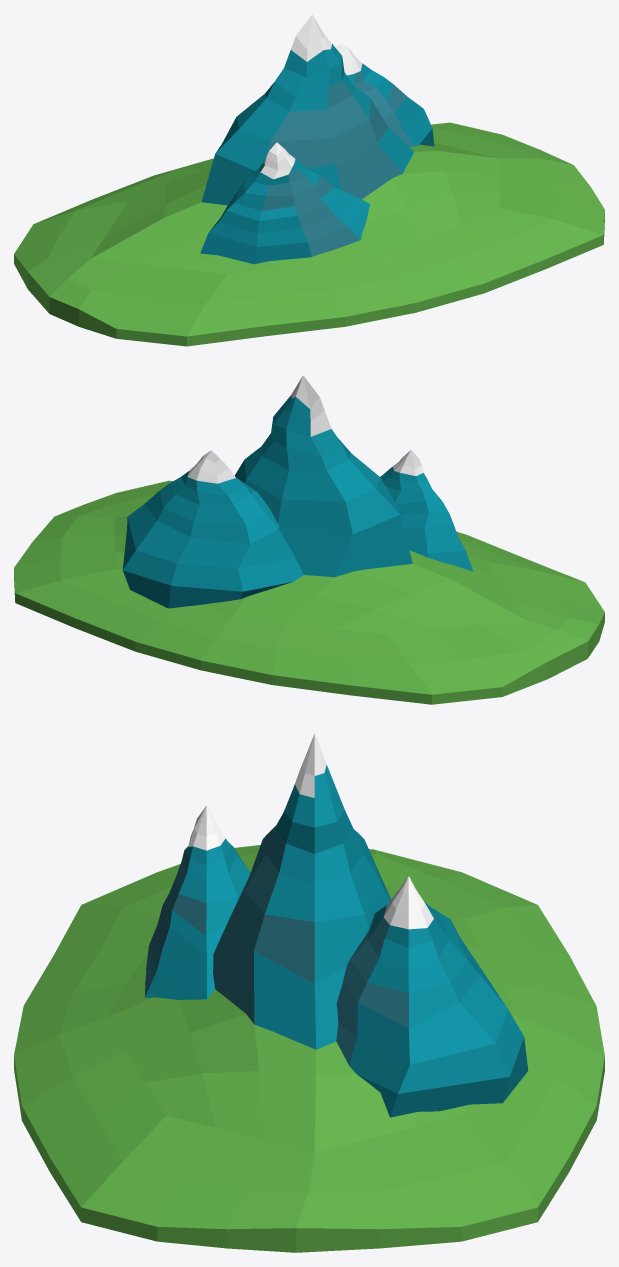
File: Mountains.fbx
3 views of the same model, one above another, from view 1: azimuth 30°, elevation 25°; view 2: azimuth 150°, elevation 25°; view 3: azimuth 270°, elevation 25° (orthographic). The views are drawn at different scales.
Parts seen in each view (by area): view 1: Mountains; view 2: Mountains; view 3: Mountains.
Part boxes in pixels (x1,y1,x2,y2): Mountains: (14, 14, 604, 346); Mountains: (14, 375, 604, 704); Mountains: (14, 733, 604, 1252).
Bounding box in the file's own units: 793 × 322 × 516.
